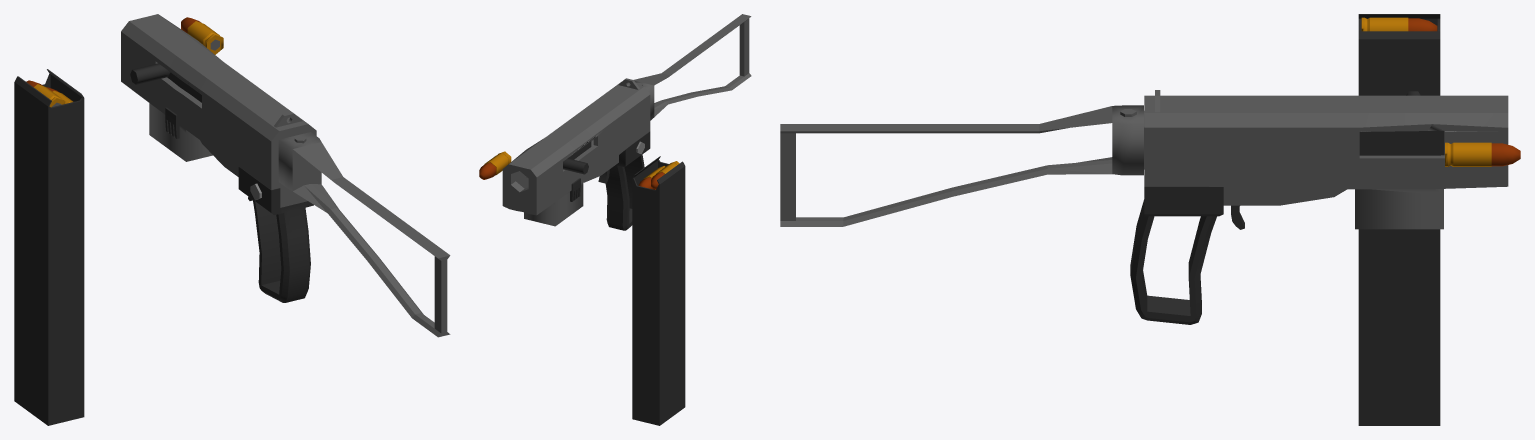
File: IronSimpleSMG1.1.fbx
The picture shows the model from 3 angles, left to right: view 1: azimuth 30°, elevation 25°; view 2: azimuth 150°, elevation 25°; view 3: azimuth 270°, elevation 25°; orthographic projection. The views are drawn at different scales.
Visible parts, largest first — view 1: magazine, Mainpody, tok, hand, bolt, 9x051; view 2: magazine, Mainpody, tok, hand, 9x051, bolt; view 3: Mainpody, magazine, tok, hand, bolt, 9x051, 9x020.
Boxes of the visible parts, x1,y1,x2,y2 form: magazine: (14,69,84,425); Mainpody: (121,14,316,207); tok: (278,132,450,337); hand: (238,167,313,302); bolt: (130,63,201,102); 9x051: (181,17,223,54); magazine: (632,156,685,425); Mainpody: (502,78,650,226); tok: (628,14,751,120); hand: (605,131,650,230); 9x051: (479,151,511,179); bolt: (563,141,591,174); Mainpody: (1144,90,1508,229); magazine: (1358,14,1440,425); tok: (780,105,1143,226); hand: (1130,186,1223,324); bolt: (1359,91,1444,155); 9x051: (1445,142,1520,166); 9x020: (1361,17,1437,31).
Size of the model in its own units: 93.39 by 141 by 234.
